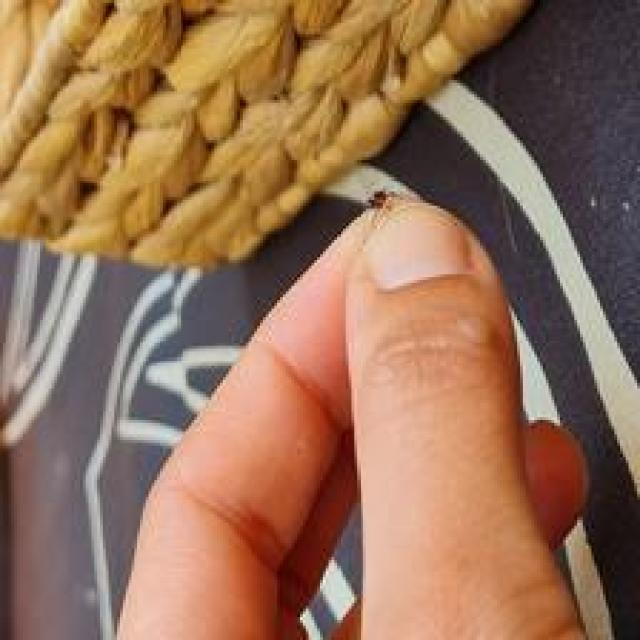Aedes albopictus: (0, 0, 551, 271)
